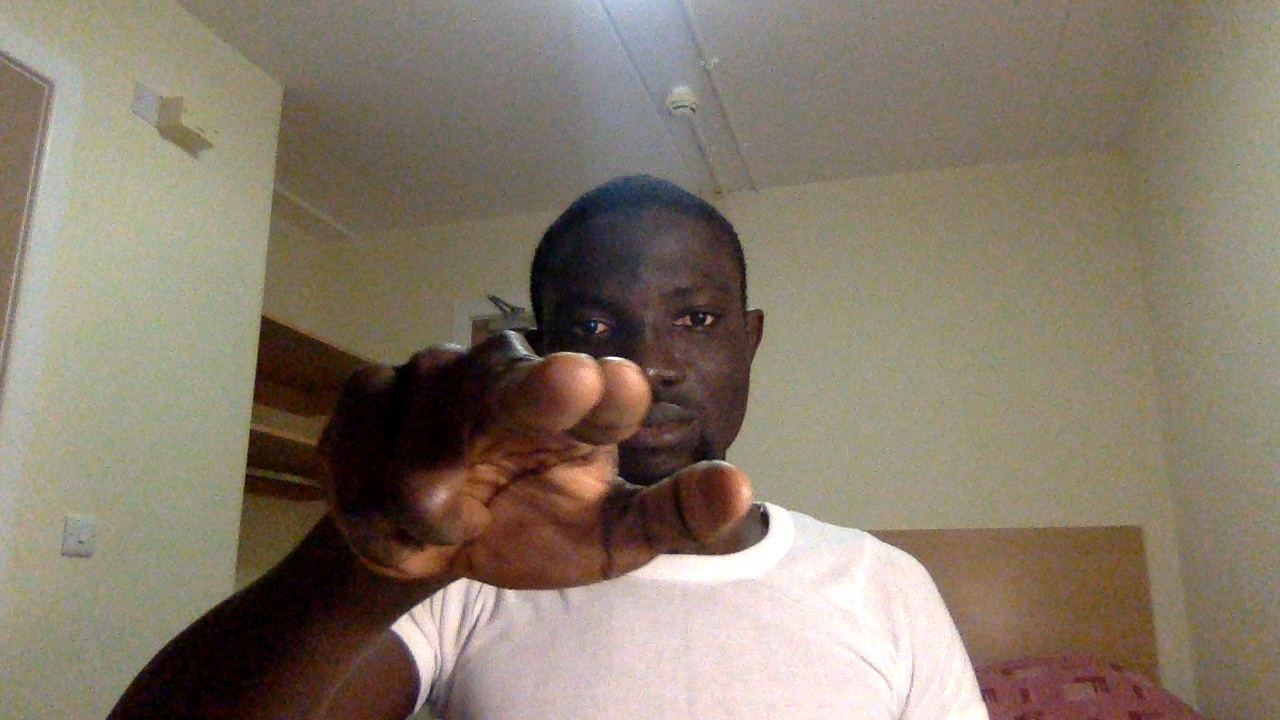No: (317, 323, 761, 601)
